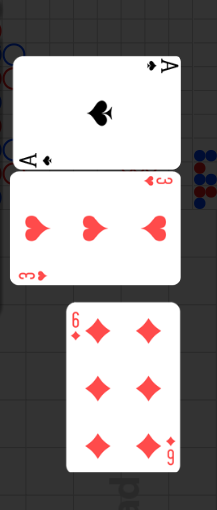3H: (142, 175, 173, 188)
6D: (165, 435, 176, 467)
AS: (143, 59, 178, 76)
